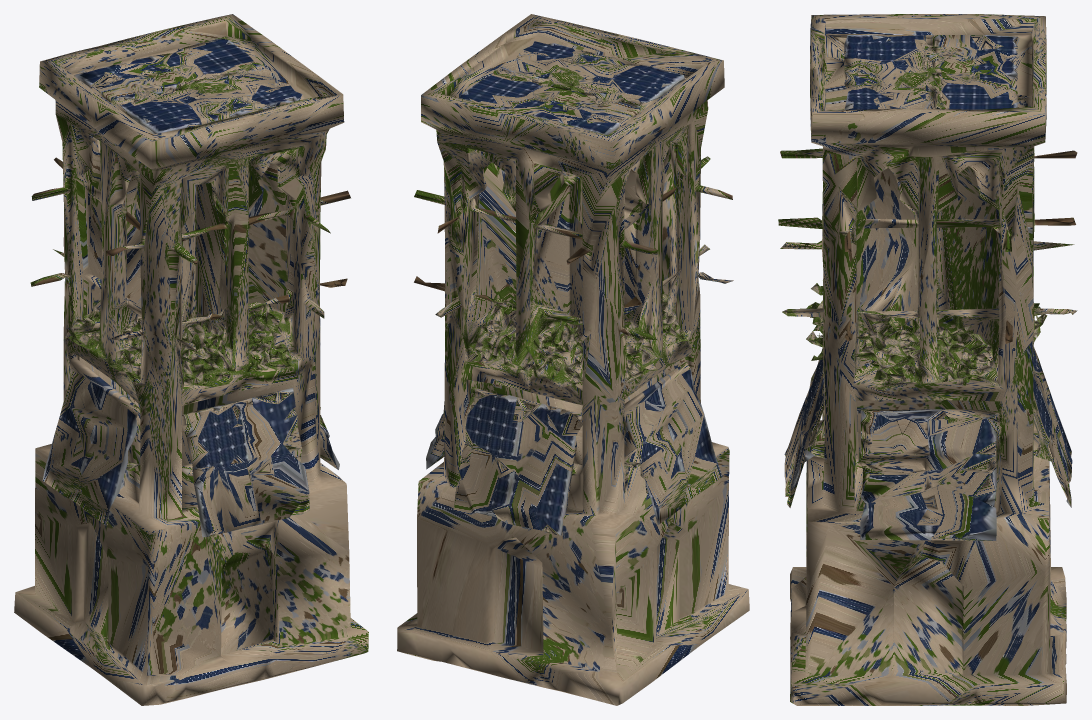
File: windtower_lod1.glb
3 views of the same model, side by side, from view 1: azimuth 30°, elevation 25°; view 2: azimuth 150°, elevation 25°; view 3: azimuth 270°, elevation 25° (orthographic). The views are drawn at different scales.
Size of the model in its own units: 0.8703 by 1.9 by 0.8798.
1 material, 1 textured.
